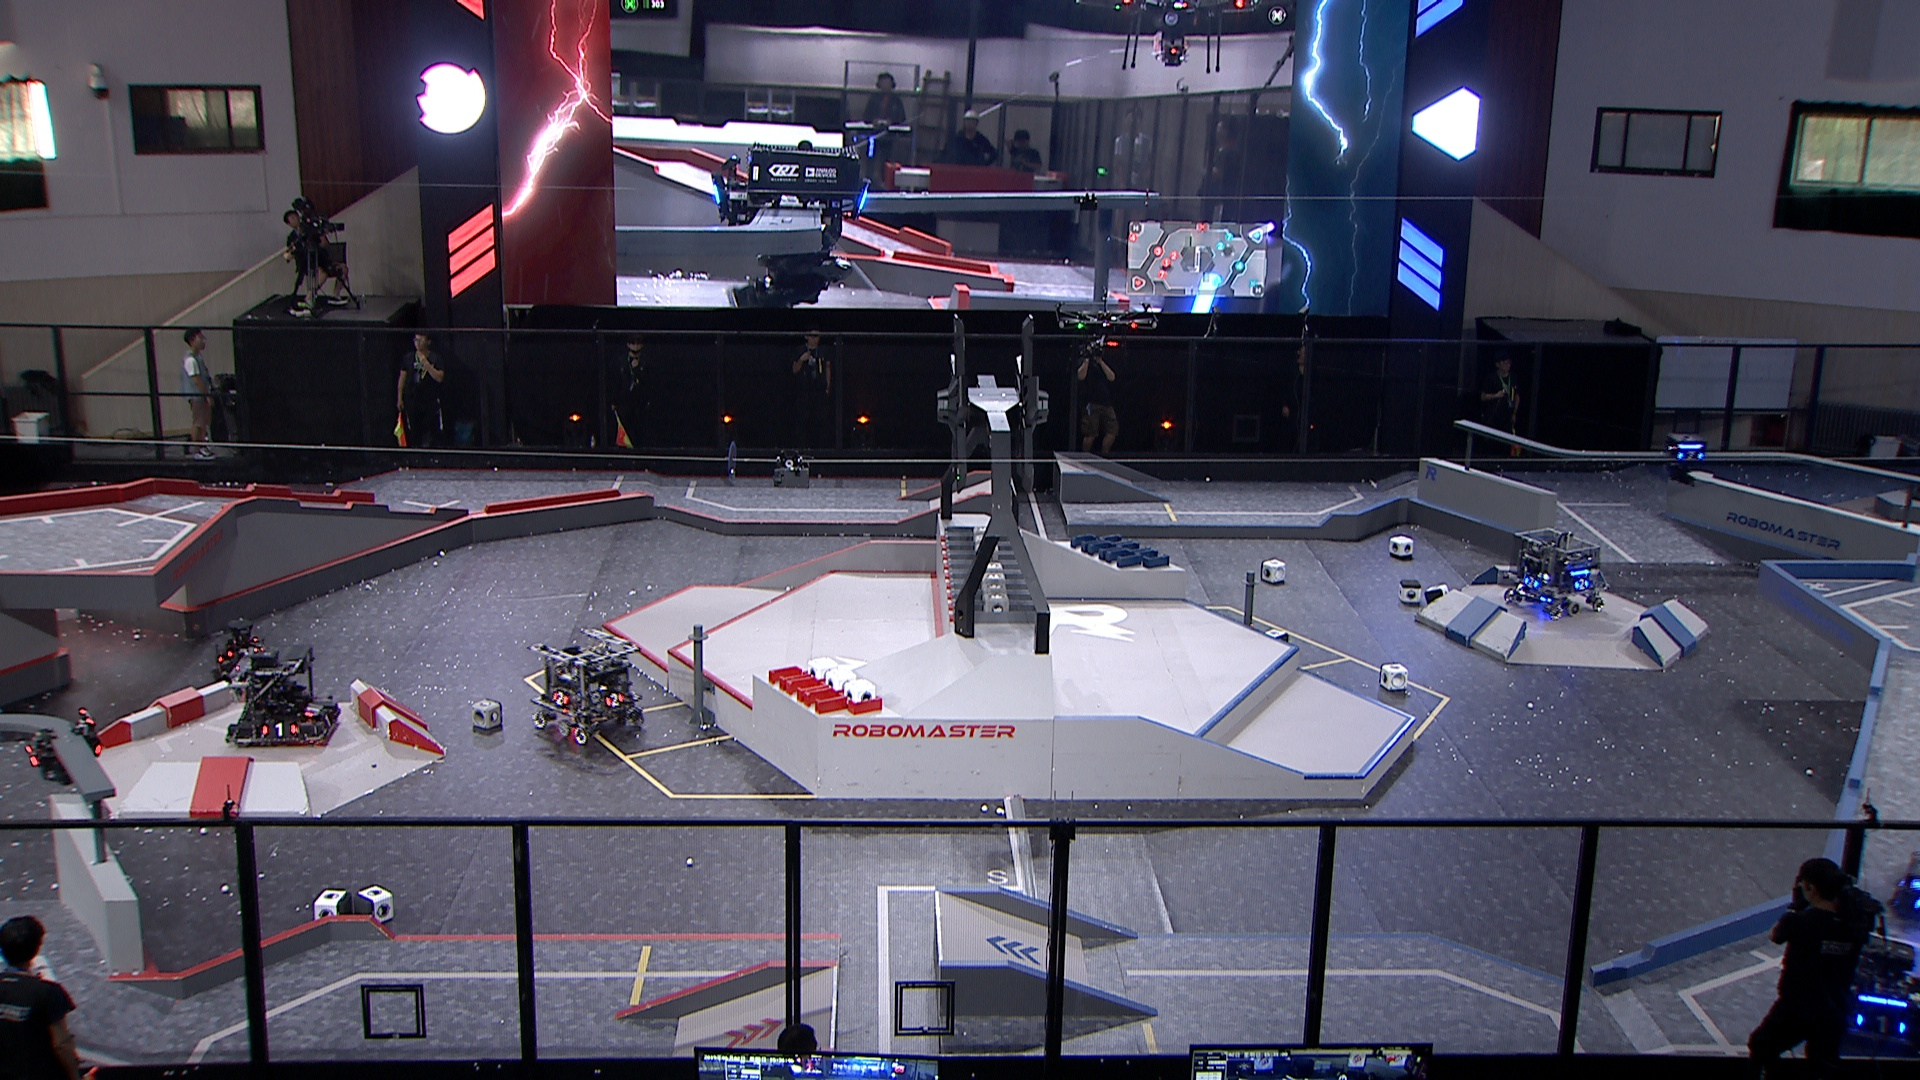armor: (1855, 1011, 1911, 1043), (262, 719, 301, 741), (315, 702, 342, 731), (24, 742, 44, 770), (1673, 448, 1705, 465), (603, 688, 626, 711), (1571, 576, 1594, 593), (550, 688, 571, 707), (299, 698, 320, 716), (1523, 574, 1542, 591)
car: (527, 626, 646, 749), (225, 644, 343, 745), (1817, 934, 1920, 1046), (1499, 524, 1610, 616), (207, 616, 278, 680), (1887, 840, 1920, 927)
ignore: (705, 138, 874, 313)
watcher: (21, 707, 107, 789), (1664, 429, 1709, 487)
